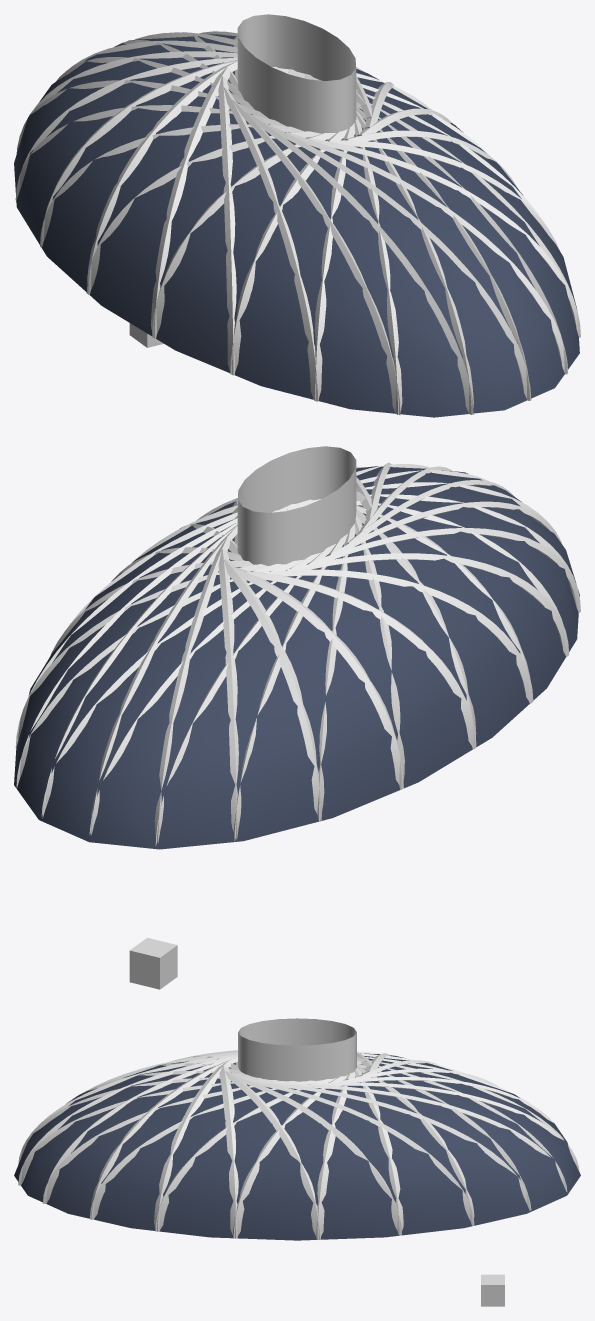
The model's file is cupula.fbx.
3 views of the same model, one above another, from view 1: azimuth 30°, elevation 25°; view 2: azimuth 150°, elevation 25°; view 3: azimuth 270°, elevation 25° (orthographic). The views are drawn at different scales.
Visible parts, largest first — view 1: Sphere, Null, PALOS1, Cylinder; view 2: Sphere, Null, PALOS1, Cylinder, Cube; view 3: Sphere, Null, PALOS1, Cylinder, Cube.
Part boxes in pixels (box(x1,y1,x2,y2)): Sphere: box(14, 34, 579, 417); Null: box(16, 31, 579, 414); PALOS1: box(15, 32, 580, 414); Cylinder: box(237, 14, 356, 133); Sphere: box(14, 466, 579, 849); Null: box(15, 462, 579, 844); PALOS1: box(16, 464, 580, 845); Cylinder: box(237, 446, 356, 565); Cube: box(129, 937, 177, 989); Sphere: box(14, 1053, 580, 1240); Null: box(18, 1050, 576, 1239); PALOS1: box(18, 1051, 579, 1239); Cylinder: box(238, 1018, 356, 1081); Cube: box(481, 1274, 504, 1306).
Bounding box in the file's own units: 2573 × 2485 × 4740.
